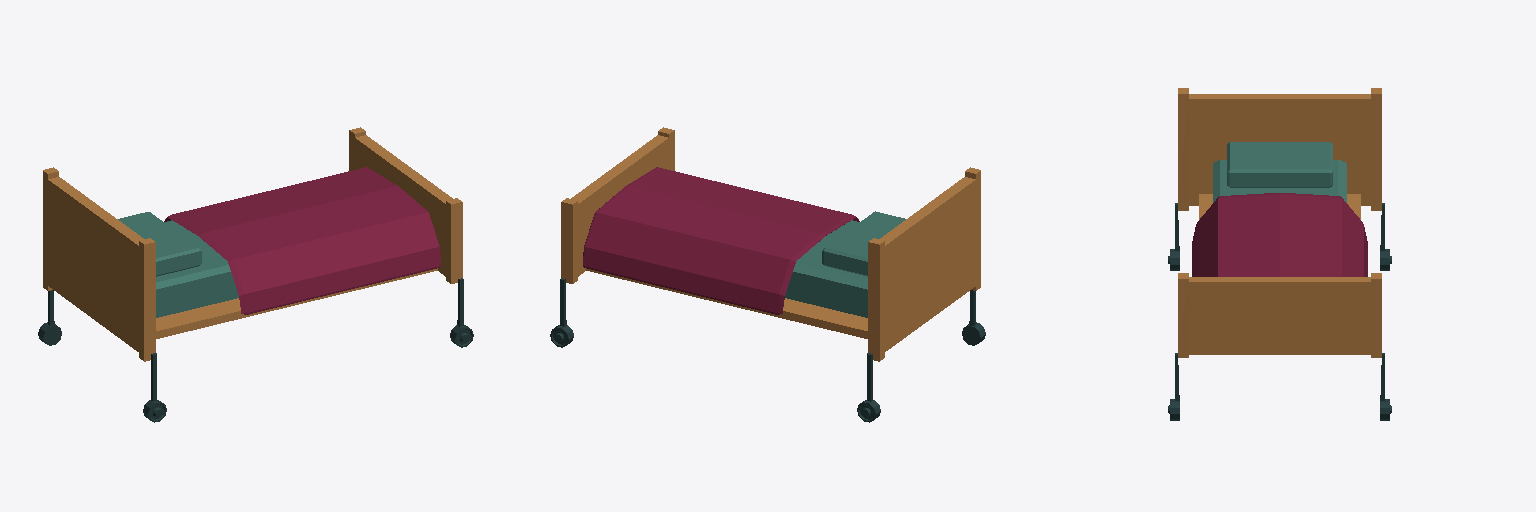
Rendered from hospitalbed.obj.
The picture shows the model from 3 angles: view 1: azimuth 30°, elevation 25°; view 2: azimuth 150°, elevation 25°; view 3: azimuth 270°, elevation 25°; orthographic projection.
Visible parts, largest first — view 1: blanket_low, bedframe_low_bedframe_low, mattress_low, pillow_low; view 2: blanket_low, bedframe_low_bedframe_low, mattress_low, pillow_low; view 3: bedframe_low_bedframe_low, blanket_low, pillow_low, mattress_low.
Part boxes in pixels (left/top/right/bottom): blanket_low: left=164, top=167, right=440, bottom=314; bedframe_low_bedframe_low: left=38, top=127, right=473, bottom=422; mattress_low: left=156, top=220, right=238, bottom=317; pillow_low: left=118, top=212, right=201, bottom=276; blanket_low: left=583, top=167, right=859, bottom=314; bedframe_low_bedframe_low: left=550, top=127, right=985, bottom=422; mattress_low: left=785, top=220, right=867, bottom=317; pillow_low: left=822, top=211, right=905, bottom=276; bedframe_low_bedframe_low: left=1168, top=88, right=1391, bottom=420; blanket_low: left=1192, top=193, right=1367, bottom=276; pillow_low: left=1227, top=142, right=1332, bottom=187; mattress_low: left=1213, top=160, right=1346, bottom=202.
Bounding box in the file's own units: 6.97 × 3.61 × 4.15.